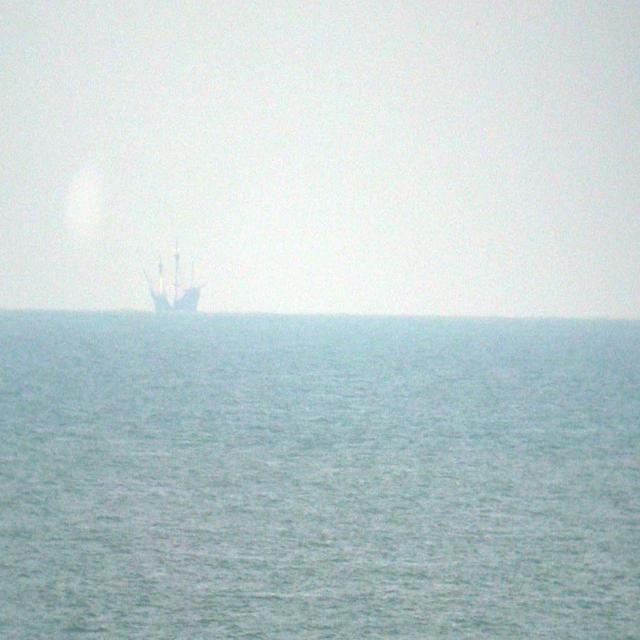fishing boat: (140, 245, 202, 321)
